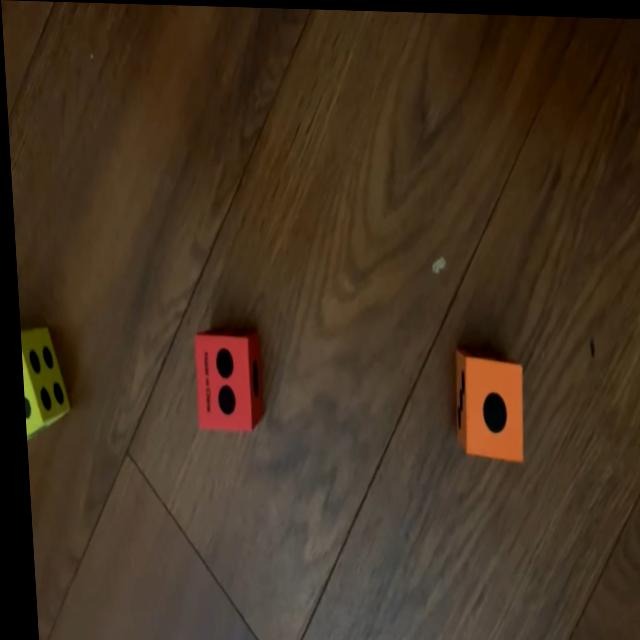cube: (187, 329, 257, 430)
